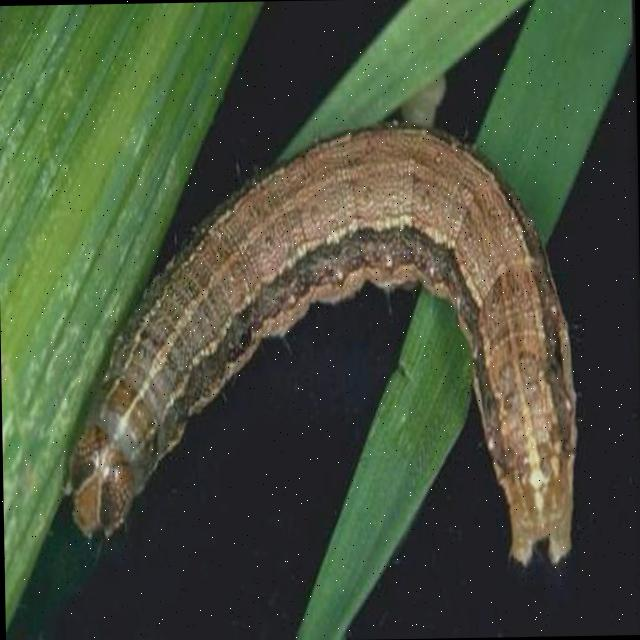worm: (55, 116, 583, 578)
